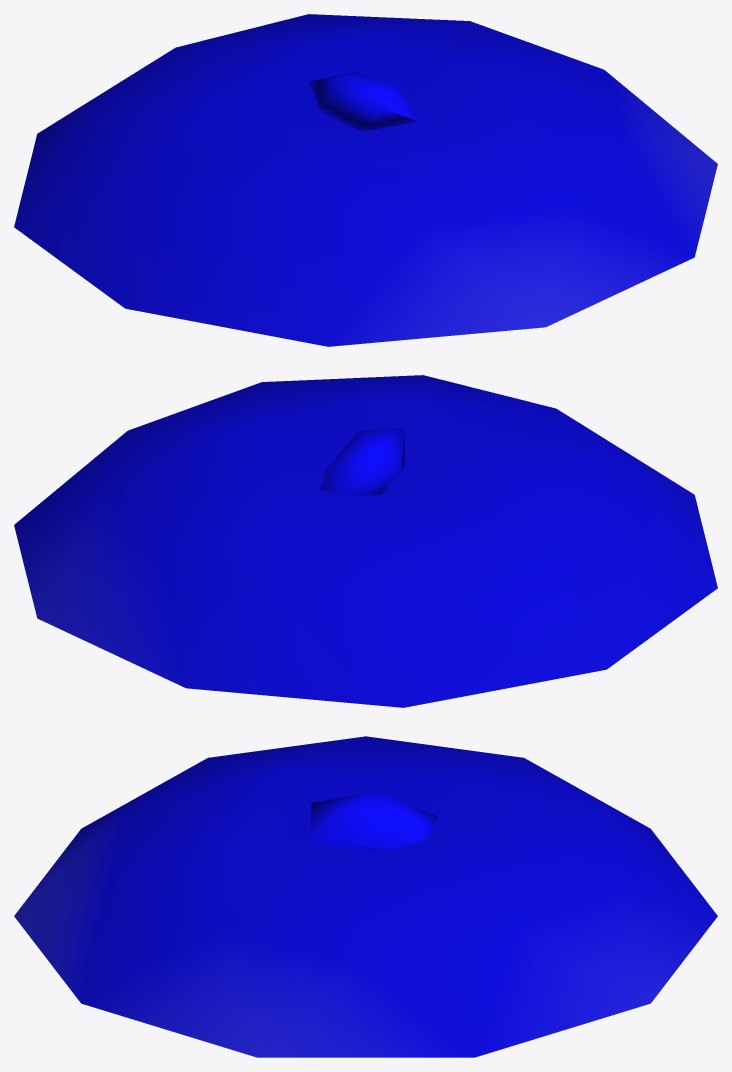
The model's file is Gelplant0.fbx.
3 views of the same model, one above another, from view 1: azimuth 30°, elevation 25°; view 2: azimuth 150°, elevation 25°; view 3: azimuth 270°, elevation 25° (orthographic). The views are drawn at different scales.
Parts seen in each view (by area): view 1: Gelplant..006; view 2: Gelplant..006; view 3: Gelplant..006.
Boxes of the visible parts, left/top/right/bottom form: Gelplant..006: left=14, top=14, right=717, bottom=346; Gelplant..006: left=14, top=375, right=717, bottom=707; Gelplant..006: left=14, top=736, right=717, bottom=1057.
Bounding box in the file's own units: 72.21 × 13.84 × 75.93.
